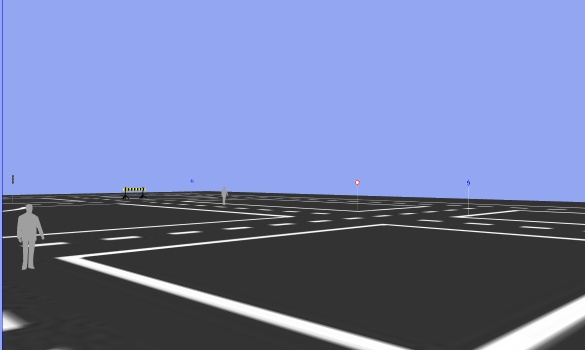yaya_insan: (12, 200, 46, 273)
